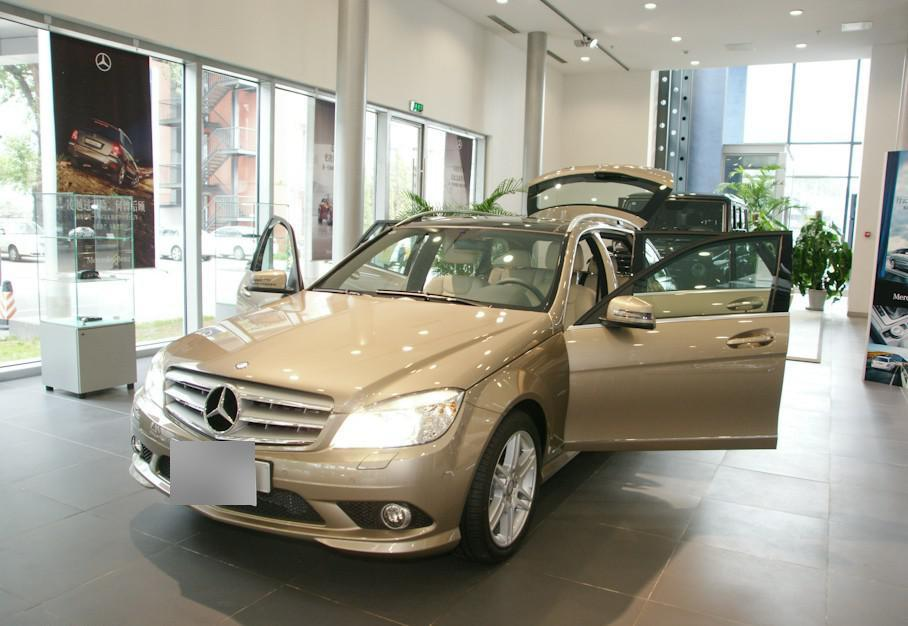Wagon: (126, 162, 795, 568)
